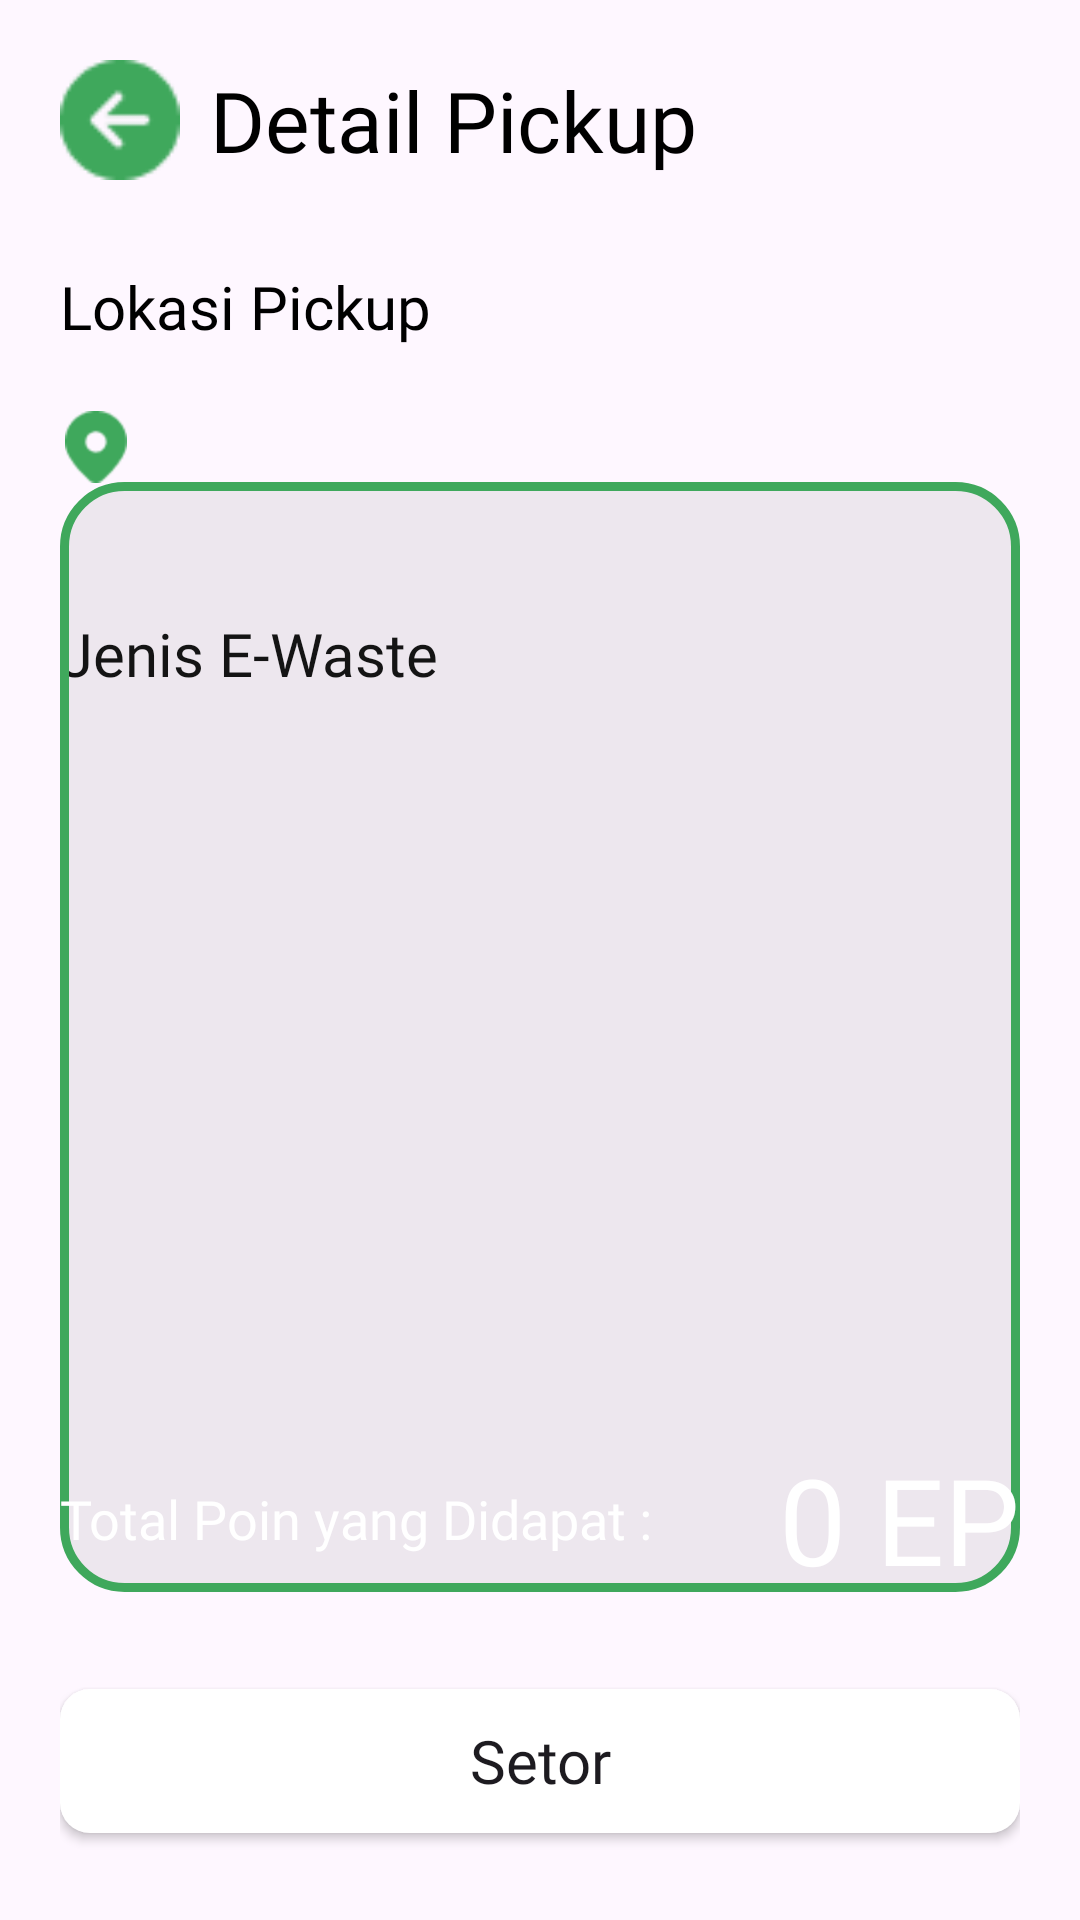

Icons on this 1080×1920 Android screen, each with the point to tap as [x,y]:
back: [120,120]
